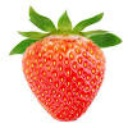strawberry: (17, 26, 110, 122)
